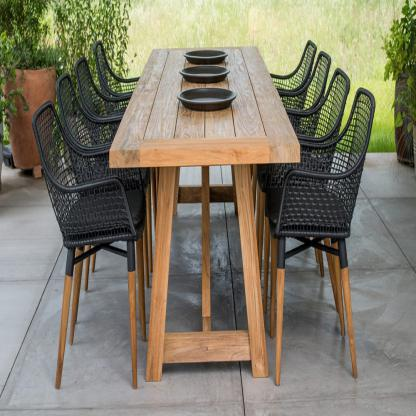table: (107, 40, 302, 384)
